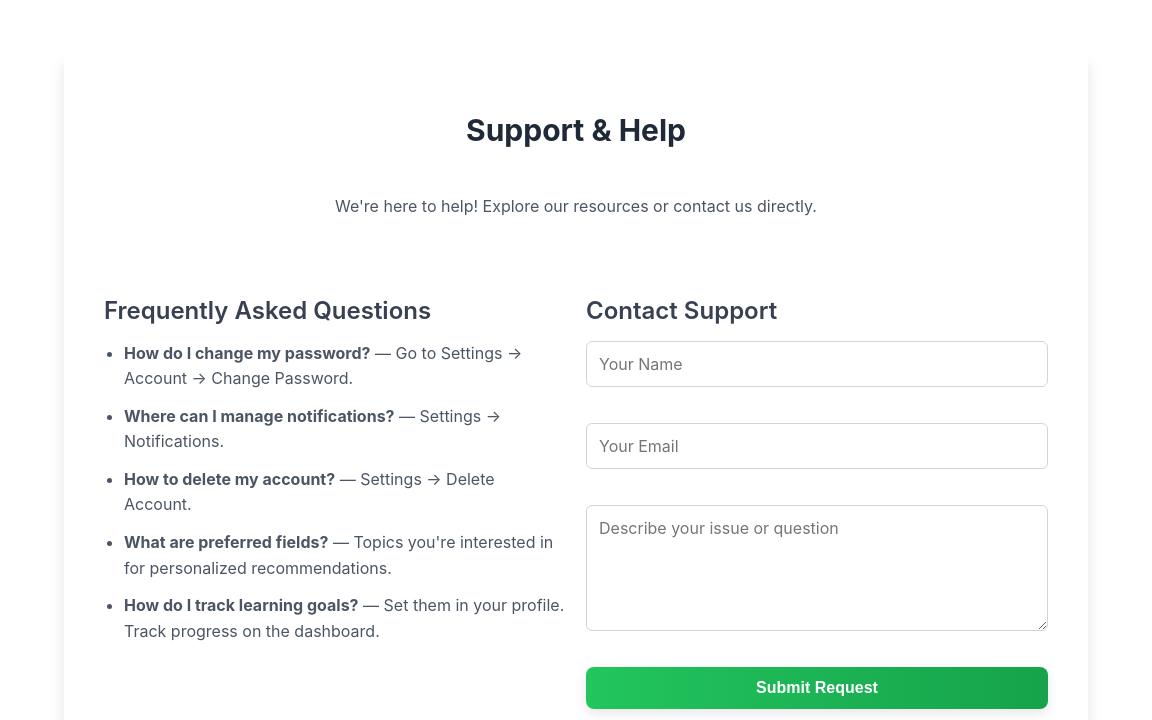
Help Component › displays error message on failed submission
Type "Jane Doe" into the field with placeholder "Your Name". click: {"x": 817, "y": 364}
box: x1=586 y1=340 x2=1048 y2=386
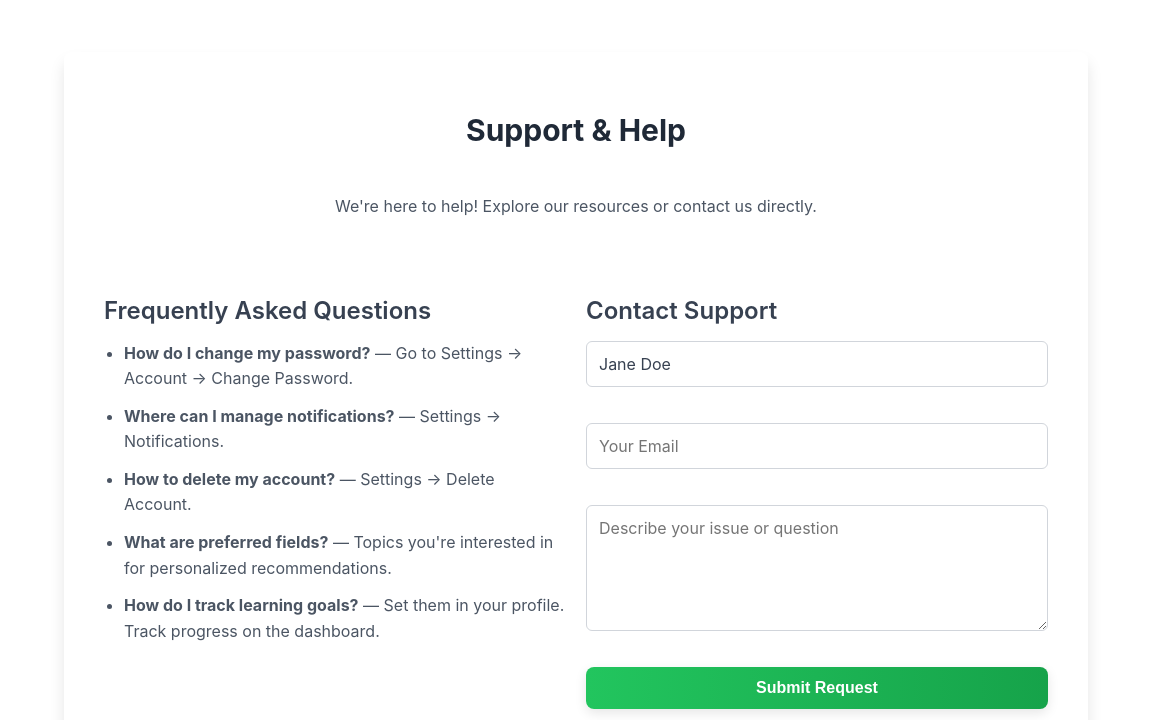
Type "jane@example.com" into the field with placeholder "Your Email". click: {"x": 817, "y": 446}
box: x1=586 y1=422 x2=1048 y2=468
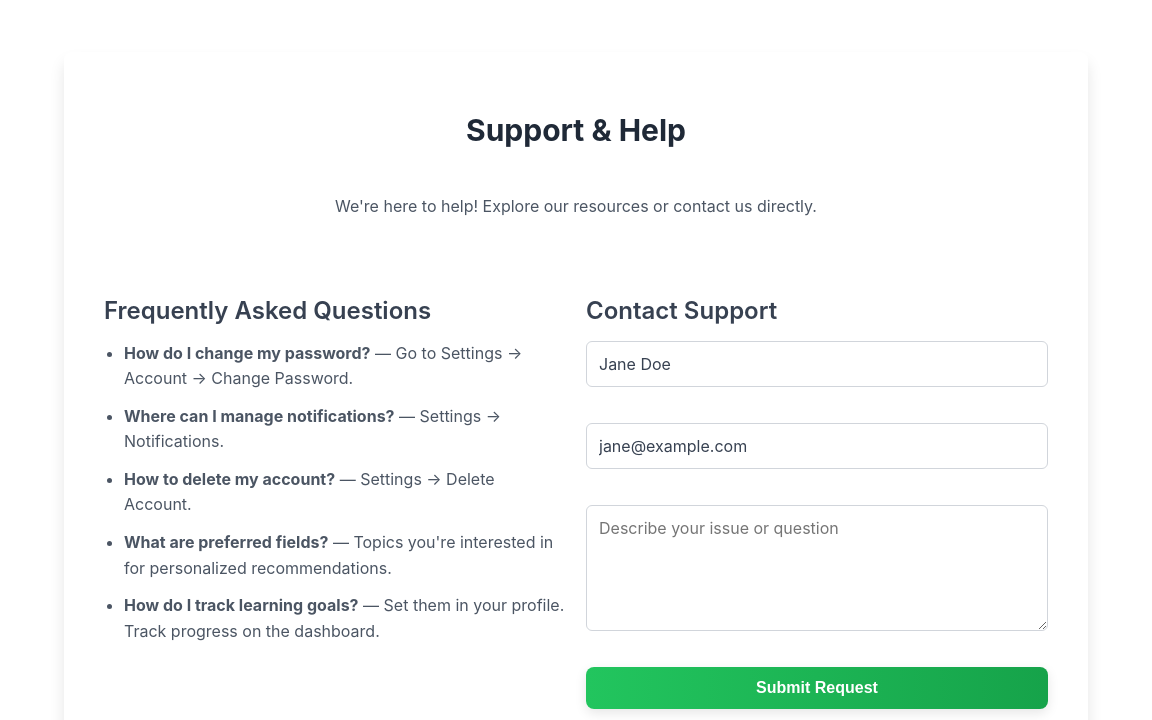
Type "Help needed" into the text box with placeholder "Describe your issue or question". click: {"x": 817, "y": 568}
box: x1=586 y1=504 x2=1048 y2=630
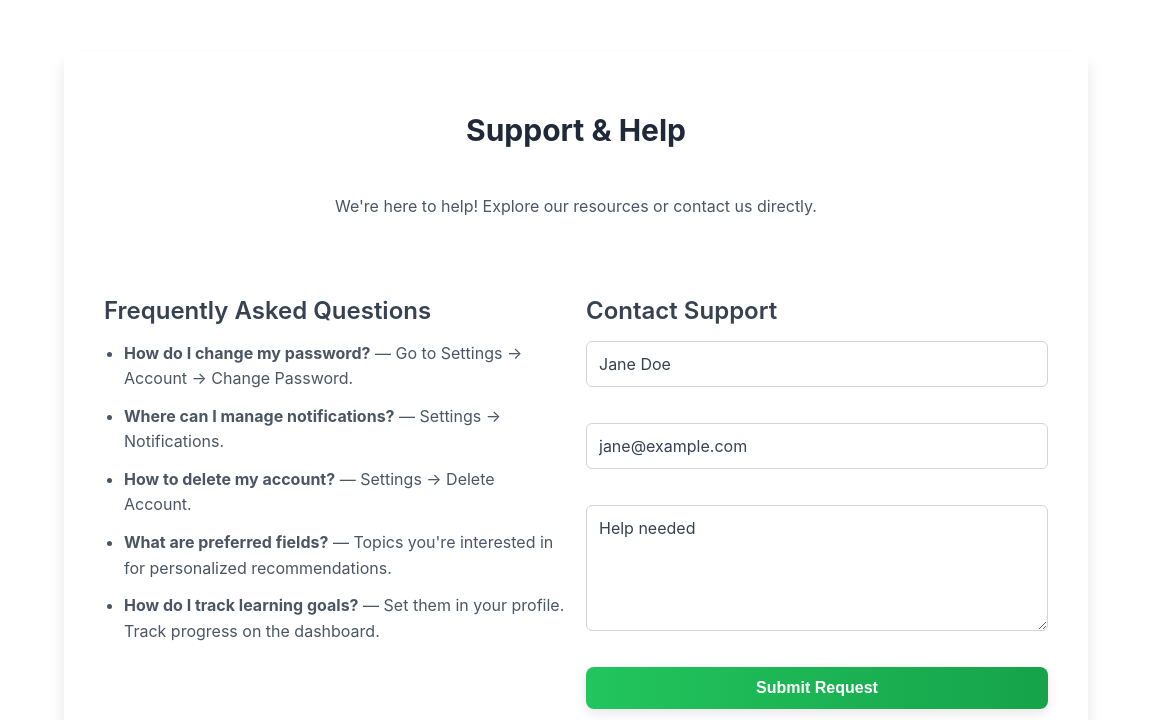
Click the button "Submit Request". click: {"x": 817, "y": 688}
box: x1=586 y1=666 x2=1048 y2=708
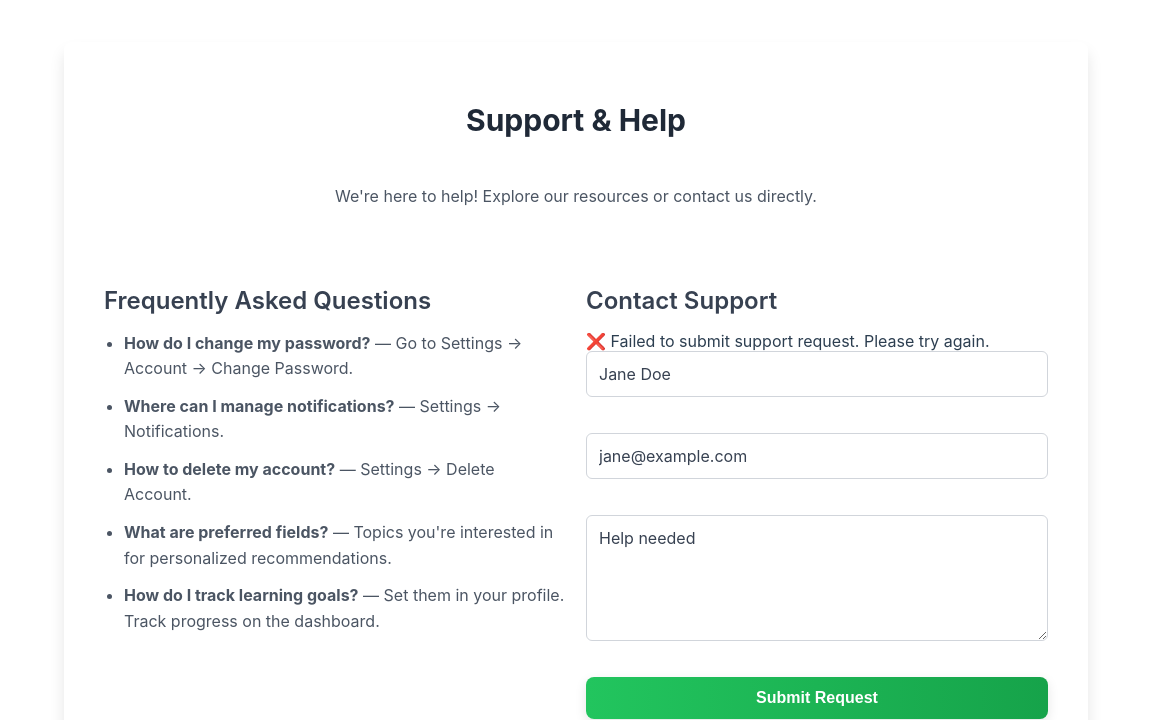
Expected: the text "❌ Failed to submit support request. Please try again." is shown, x1=586 y1=330 x2=1048 y2=350
